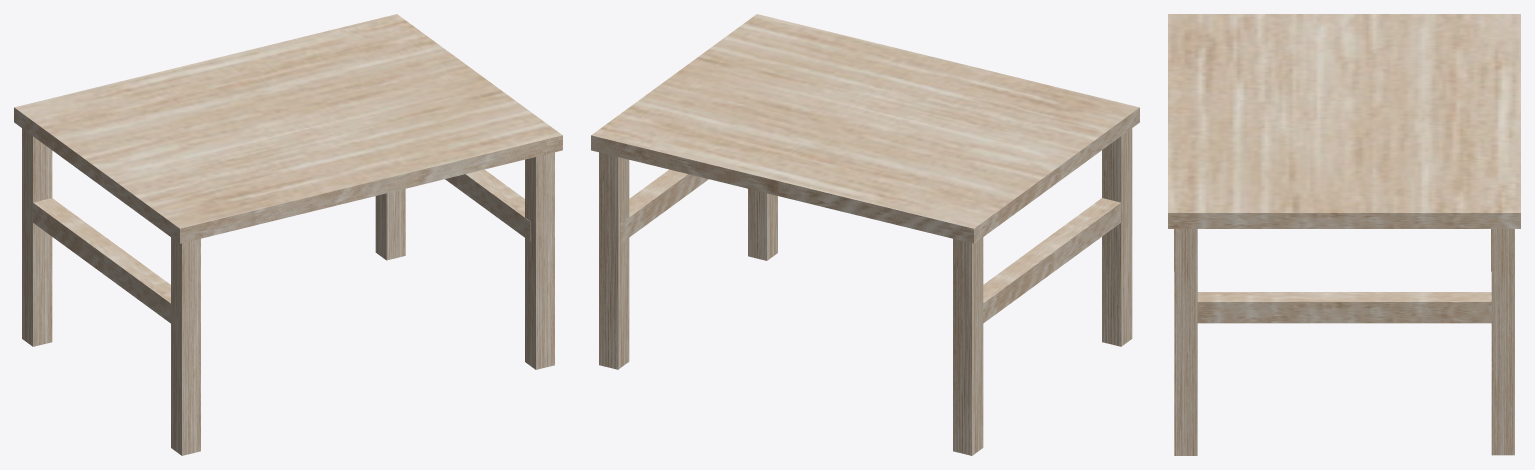
File: Meja2_kayu.gltf
3 views of the same model, side by side, from view 1: azimuth 30°, elevation 25°; view 2: azimuth 150°, elevation 25°; view 3: azimuth 270°, elevation 25° (orthographic). The views are drawn at different scales.
Visible parts, largest first — view 1: Cube, Cube.003, Cube.001, Cube.004, Cube.006, Cube.005, Cube.002; view 2: Cube, Cube.004, Cube.002, Cube.003, Cube.006, Cube.005, Cube.001; view 3: Cube, Cube.005, Cube.001, Cube.002.
Part boxes in pixels (box(x1,y1,x2,y2)): Cube: box(14, 14, 562, 243); Cube.003: box(171, 237, 200, 455); Cube.001: box(525, 152, 554, 369); Cube.004: box(22, 128, 52, 346); Cube.006: box(33, 198, 170, 323); Cube.005: box(445, 169, 530, 240); Cube.002: box(375, 189, 405, 260); Cube: box(591, 14, 1139, 243); Cube.004: box(953, 237, 983, 455); Cube.002: box(599, 152, 629, 369); Cube.003: box(1102, 128, 1132, 346); Cube.006: box(983, 198, 1120, 323); Cube.005: box(620, 169, 708, 243); Cube.001: box(748, 189, 777, 260); Cube: box(1168, 14, 1520, 228); Cube.005: box(1197, 292, 1491, 323); Cube.001: box(1174, 229, 1197, 455); Cube.002: box(1491, 229, 1514, 455).
Size of the model in its own units: 8 by 4.61 by 6.
Materials: 7 (7 with a texture image).
